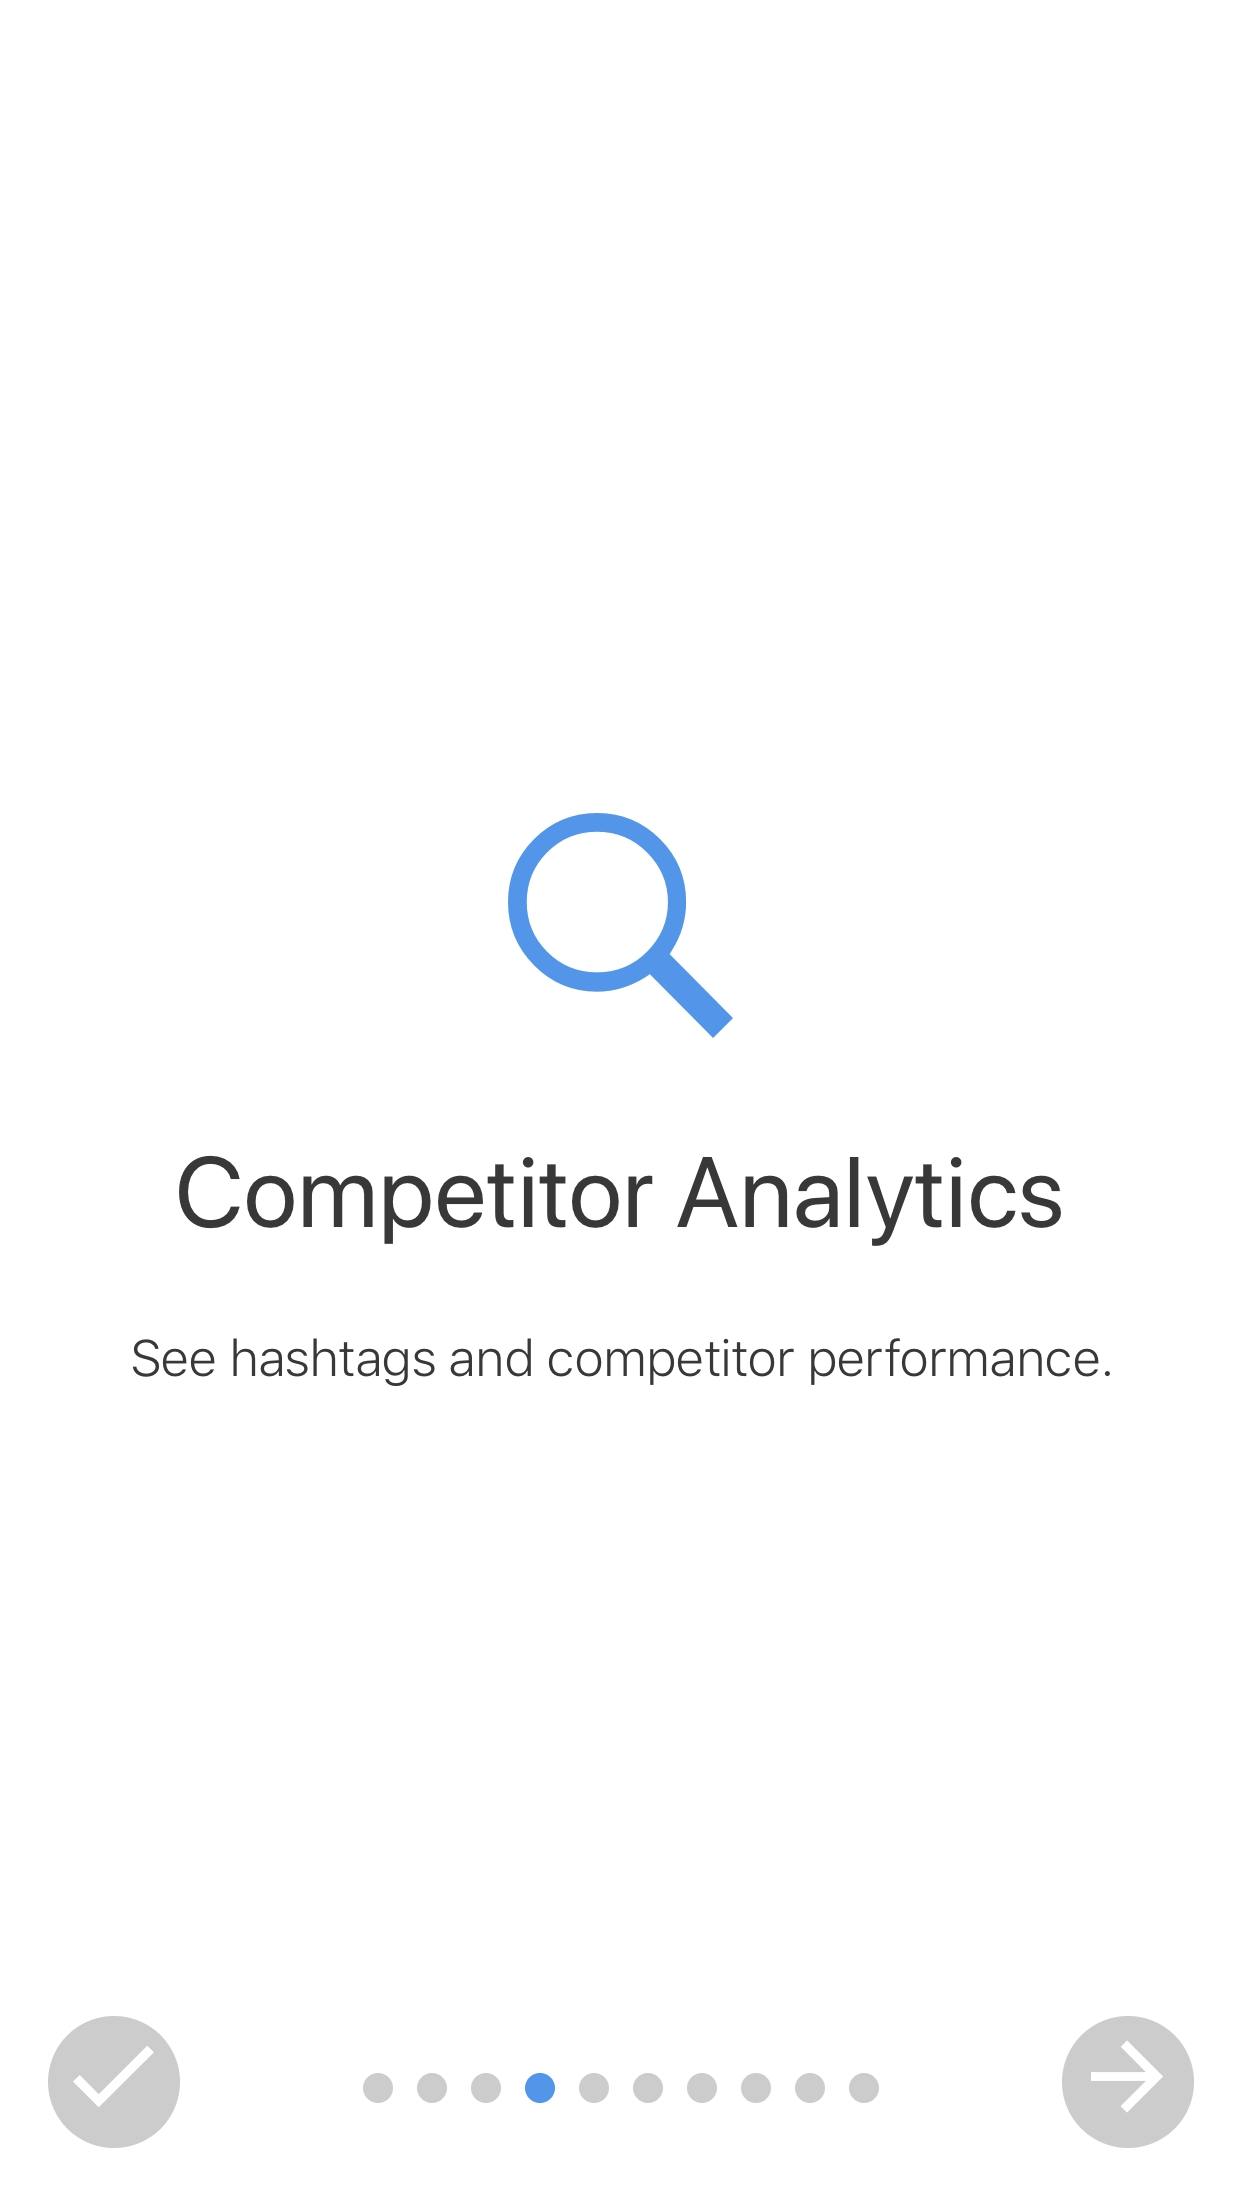Icon: (1062, 2015, 1193, 2147), (49, 2015, 180, 2147)
Image: (507, 813, 732, 1037)
PageIndicator: (362, 2072, 880, 2103)
Text: (179, 1156, 1062, 1247), (133, 1338, 1110, 1386)
